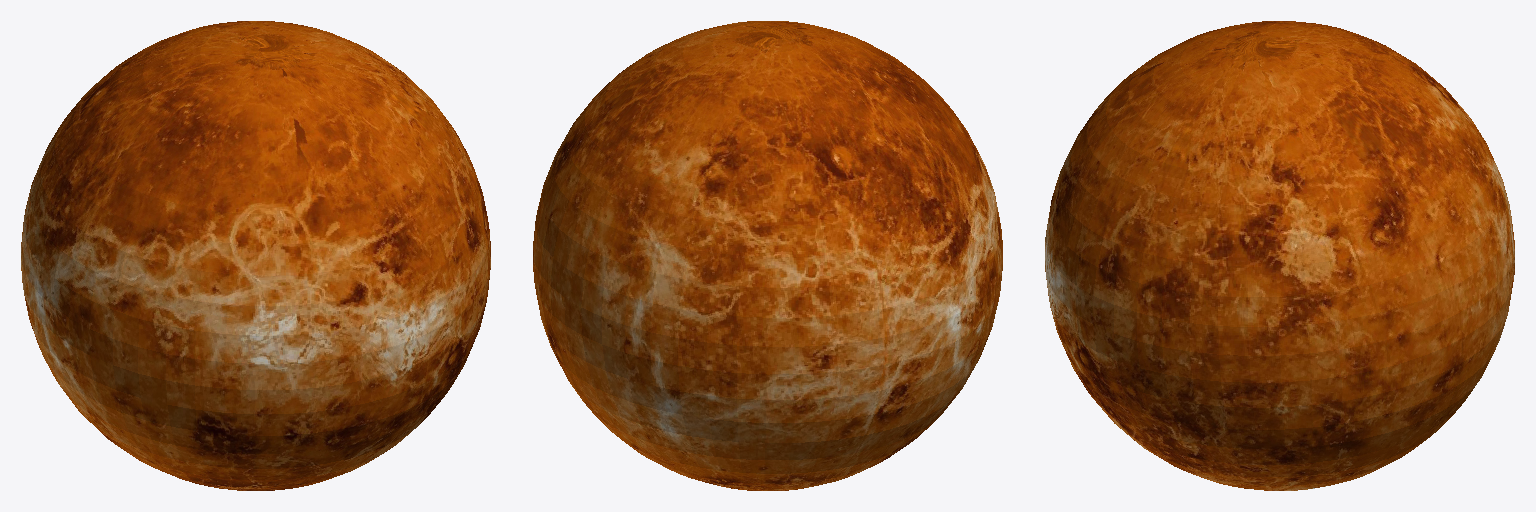
The picture shows the model from 3 angles: view 1: azimuth 30°, elevation 25°; view 2: azimuth 150°, elevation 25°; view 3: azimuth 270°, elevation 25°; orthographic projection.
Visible parts, largest first — view 1: Venus_ID22; view 2: Venus_ID22; view 3: Venus_ID22.
Boxes of the visible parts, x1=… form: Venus_ID22: x1=21, y1=21, x2=490, y2=490; Venus_ID22: x1=533, y1=21, x2=1002, y2=490; Venus_ID22: x1=1045, y1=21, x2=1514, y2=490.
Bounding box in the file's own units: 1.21 × 1.21 × 1.21.
1 materials, 1 textured.